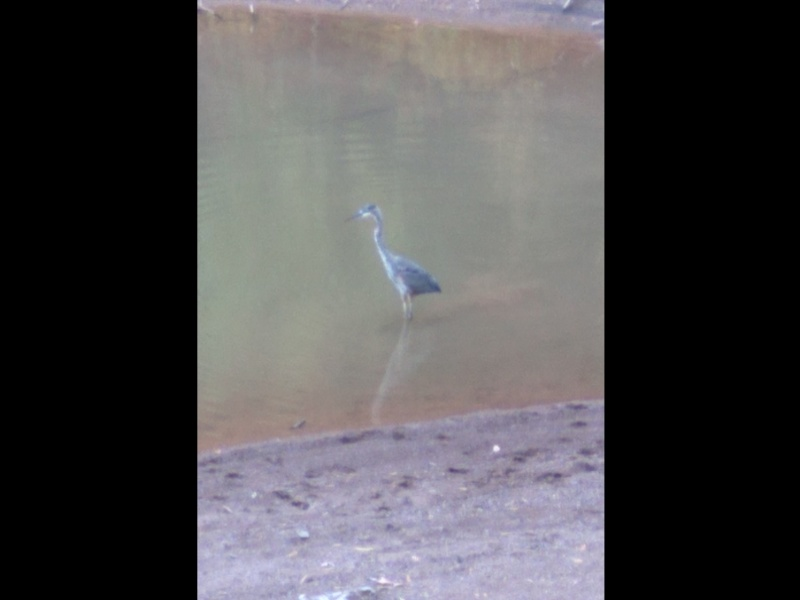heron: (341, 201, 447, 323)
